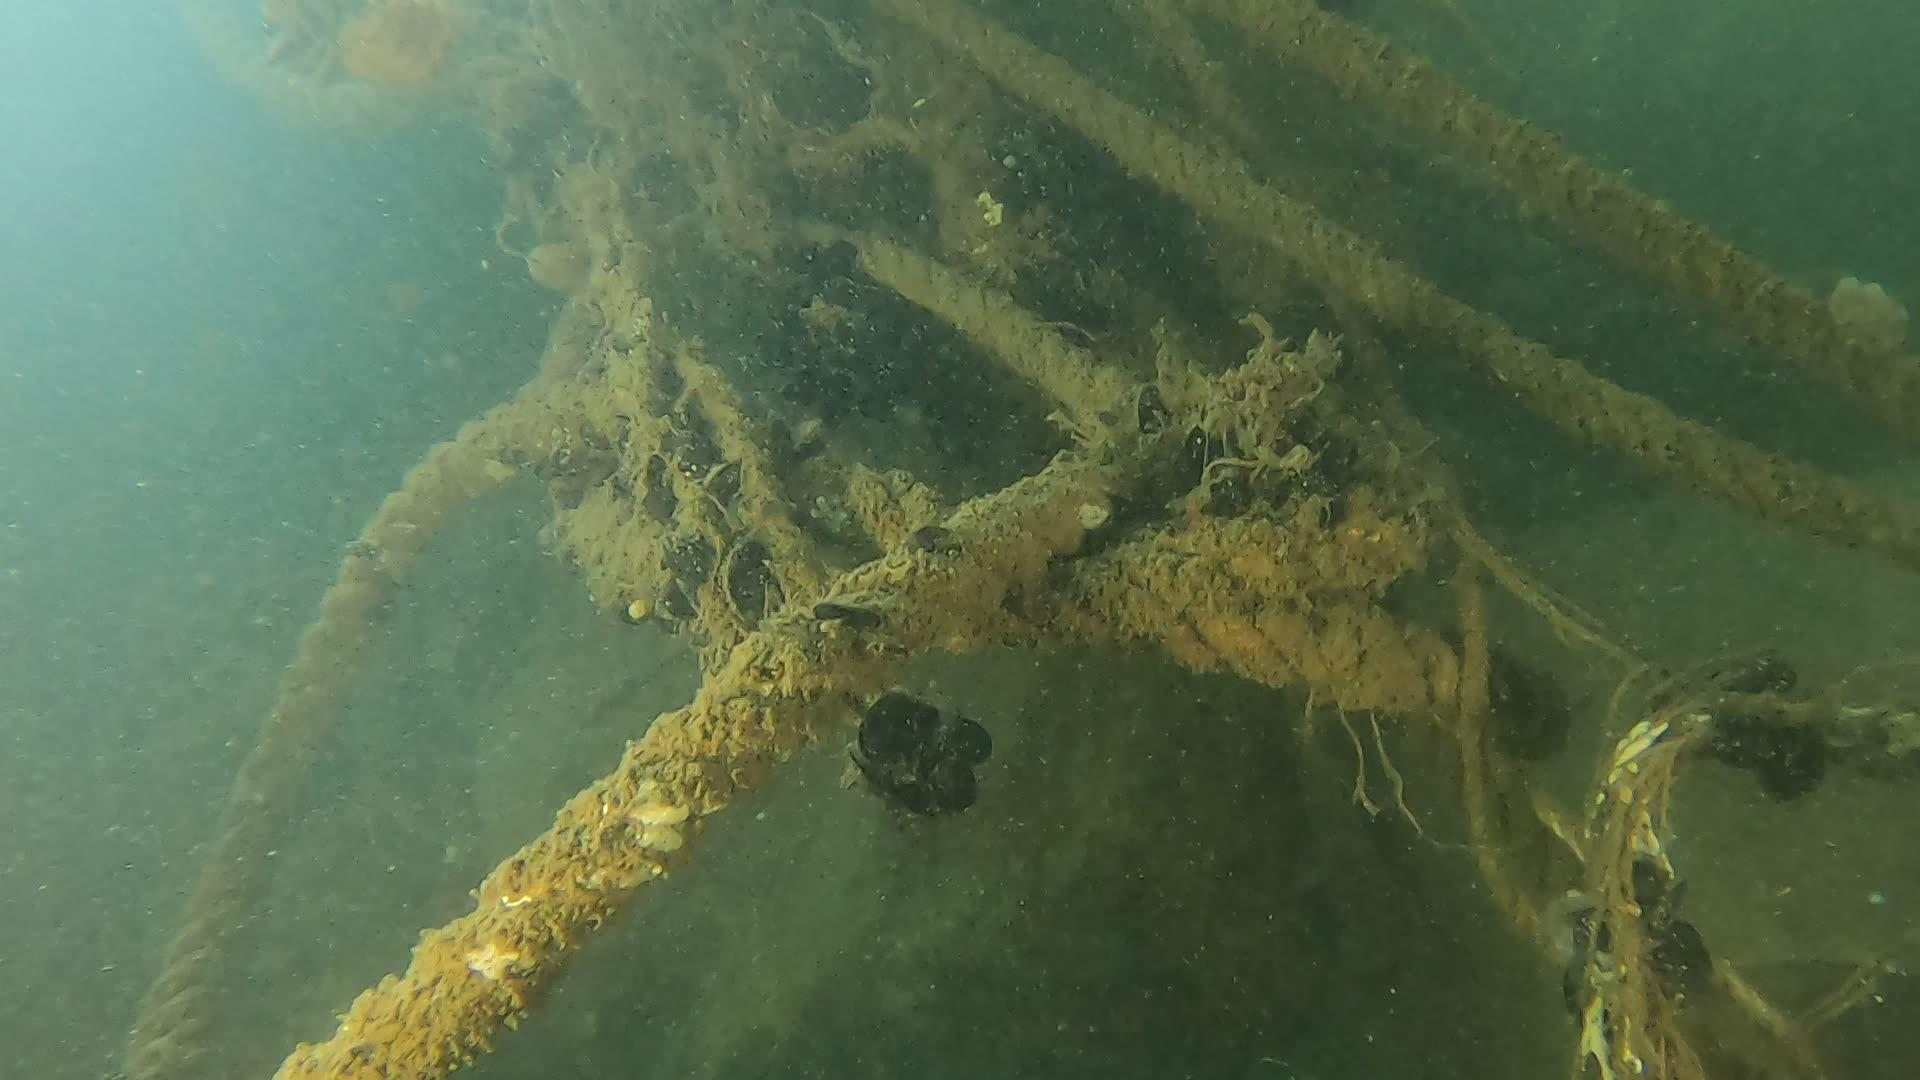bundle of ropes: (115, 0, 1920, 1080)
